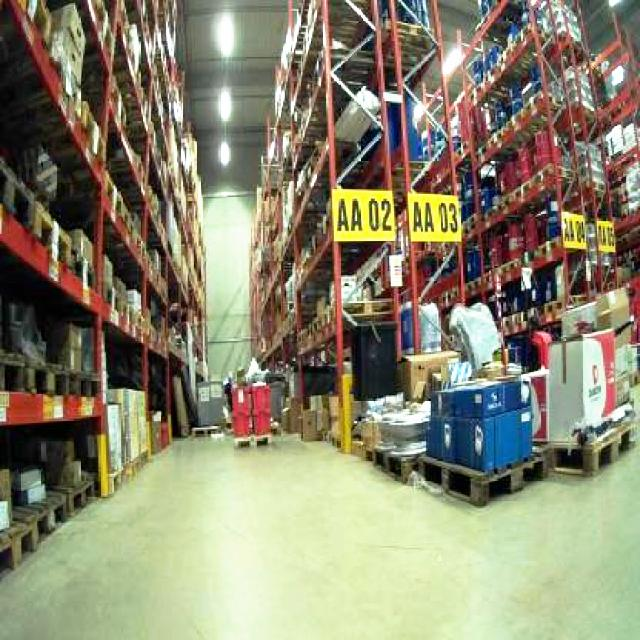ground: (0, 417, 638, 638)
pallet: (246, 0, 638, 503), (415, 449, 546, 506), (543, 414, 637, 475), (229, 382, 272, 448)
